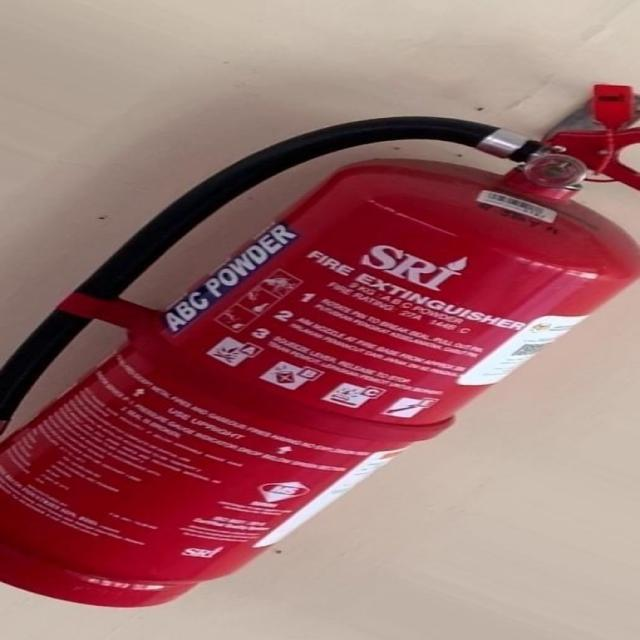fire_extinguisher: (0, 79, 639, 614)
